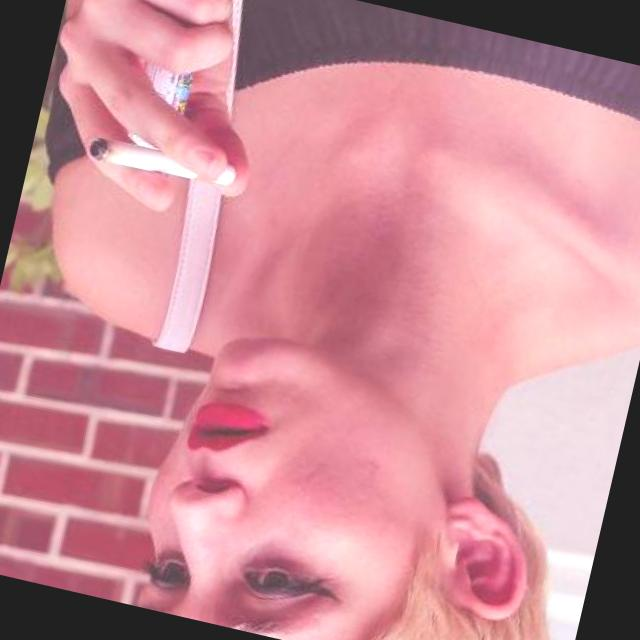cigarette: (81, 130, 242, 207)
